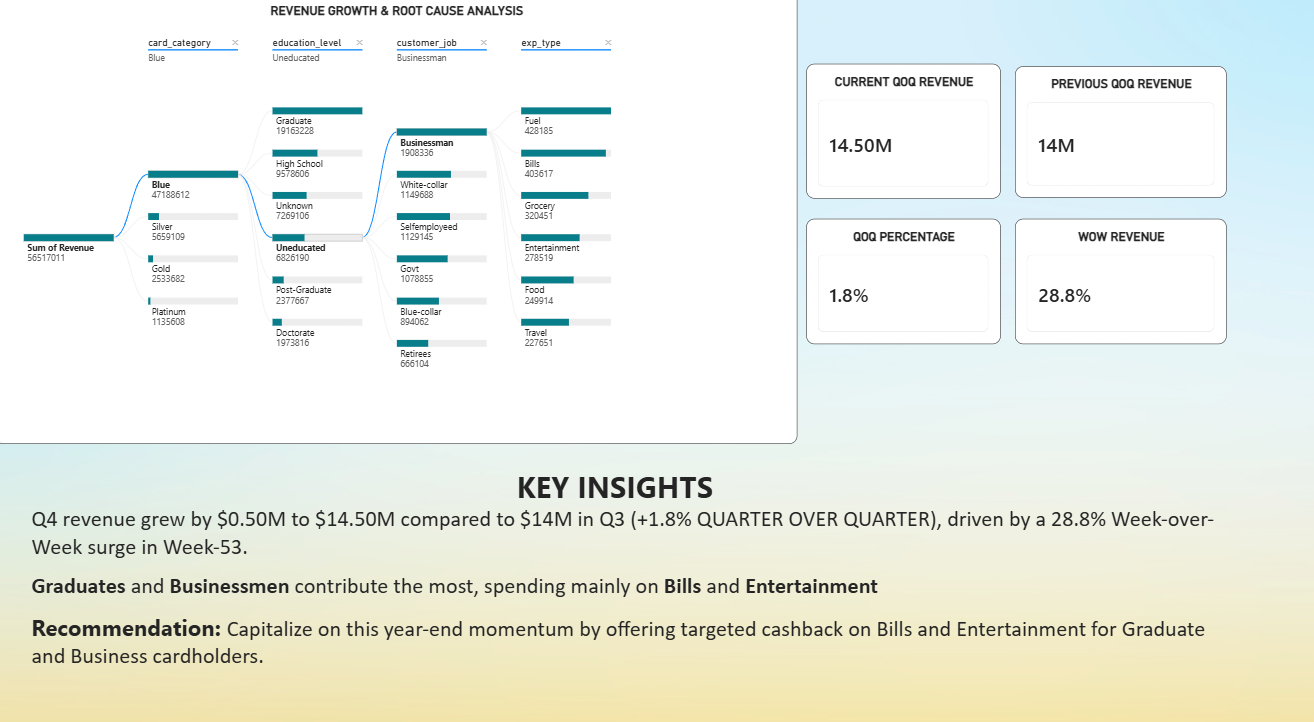

The dashboard page shown, as its layout file describes it:
{"tool":"powerbi","page":{"name":"REVENUE ANALYZE BY ROOT CAUSE","canvas":[1920,1080],"ordinal":2},"visuals":[{"type":"decompositionTreeVisual","title":"REVENUE GROWTH & ROOT CAUSE ANALYSIS","fields":{"Analyze":["Sum(public cc_detail.Revenue)"],"ExplainBy":["public cc_detail.card_category","public cust_detail.education_level","public cust_detail.customer_job","public cc_detail.exp_type"]},"box":[0,10,1161.7,653.3],"z":0},{"type":"cardVisual","title":"CURRENT QOQ REVENUE","fields":{"Data":["public cc_detail.CURRENT_QOQ_REVENUE"]},"box":[1175,113.3,281.7,195],"z":1000},{"type":"cardVisual","title":"PREVIOUS QOQ REVENUE","fields":{"Data":["public cc_detail.PREVIOUS_QOQ_REVENUE"]},"box":[1476.7,118.3,306.7,190],"z":2000},{"type":"cardVisual","title":"QOQ PERCENTAGE","fields":{"Data":["public cc_detail.QOQ-PERCENTAGE"]},"box":[1175,338.3,281.7,181.7],"z":3000},{"type":"cardVisual","title":"WOW REVENUE","fields":{"Data":["public cc_detail.WOW_REVENUE"]},"box":[1476.7,338.3,306.7,181.7],"z":4000},{"type":"textbox","box":[10,696.7,1773.3,325],"z":5000}]}

Visuals, with their boxes in screenshot pixels (x1, y1, x2, y2), scaled from the page's 1920x1080 canvas onto the 1314x722 screenshot:
"REVENUE GROWTH & ROOT CAUSE ANALYSIS" decompositionTreeVisual: [0, 7, 795, 443]
"CURRENT QOQ REVENUE" cardVisual: [804, 76, 997, 206]
"PREVIOUS QOQ REVENUE" cardVisual: [1011, 79, 1221, 206]
"QOQ PERCENTAGE" cardVisual: [804, 226, 997, 348]
"WOW REVENUE" cardVisual: [1011, 226, 1221, 348]
textbox: [7, 466, 1220, 683]
